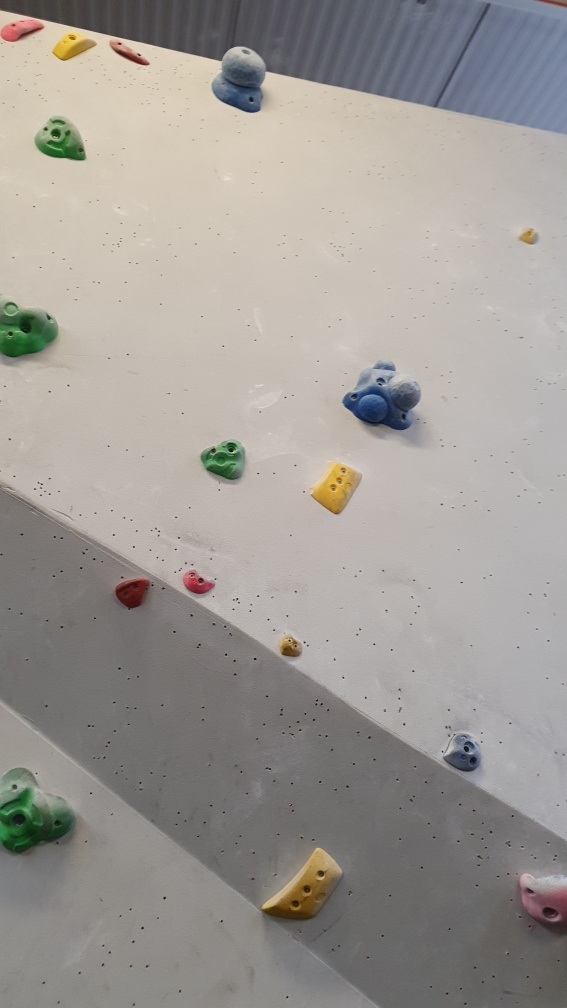Crimp: (256, 840, 347, 922), (305, 453, 368, 515), (108, 32, 152, 68)
Jug: (1, 757, 81, 863), (1, 296, 62, 359), (35, 115, 91, 163), (201, 435, 250, 484)
Pinch: (51, 31, 97, 63)
Sloper: (341, 359, 426, 431), (212, 47, 267, 114)
